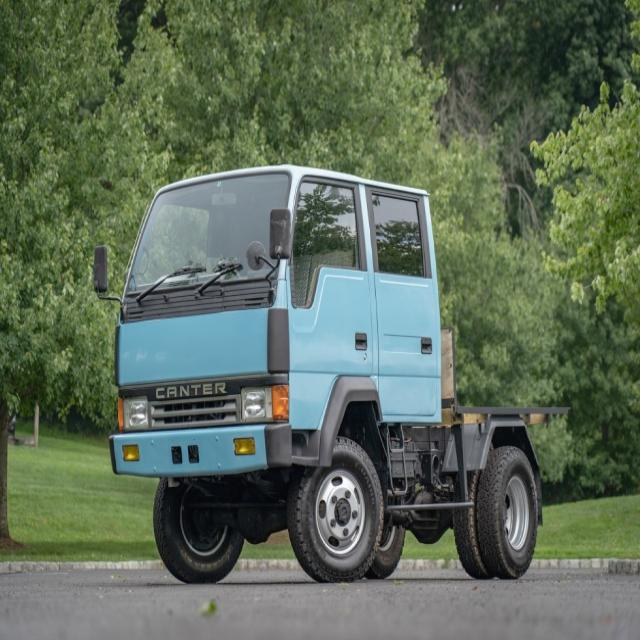truck: (91, 164, 541, 583)
